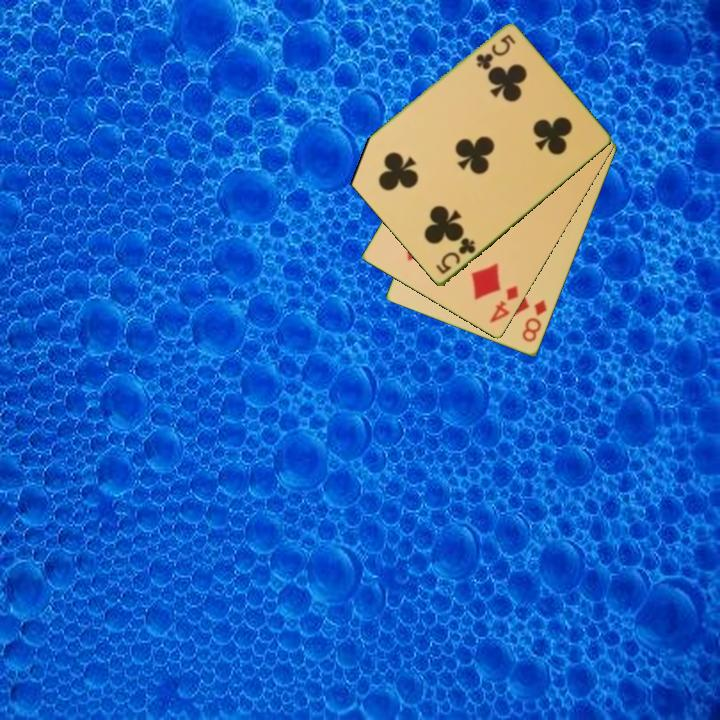4d: (486, 282, 522, 327)
5c: (432, 234, 479, 278), (472, 31, 518, 72)
8d: (518, 297, 550, 345)
